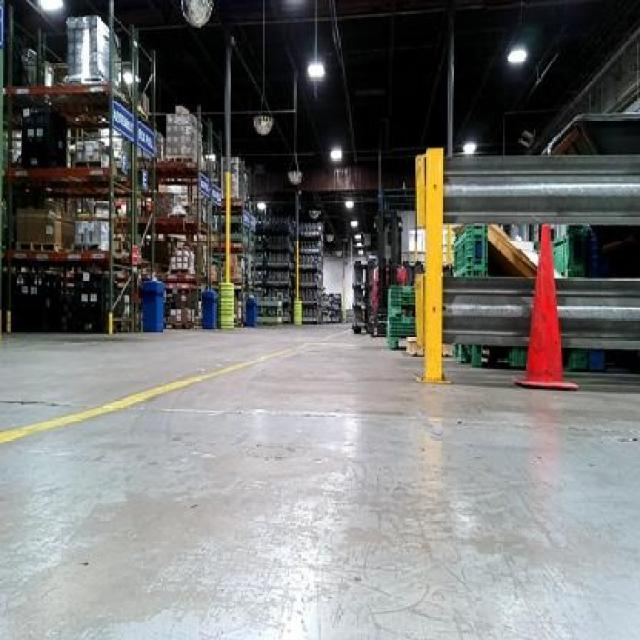forklift: (369, 209, 402, 335)
